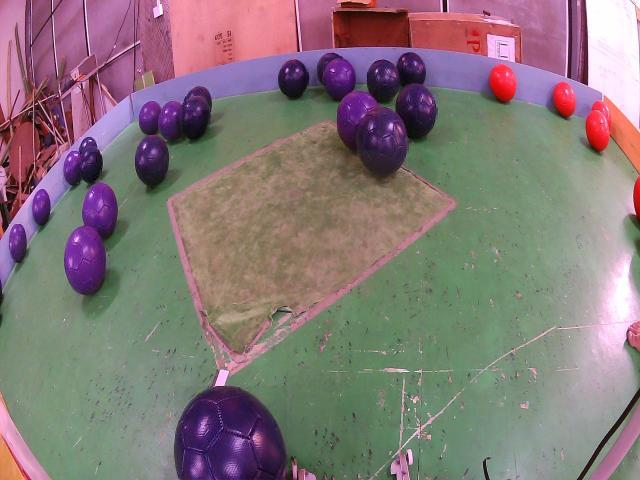jambhalya: (65, 225, 107, 295), (337, 90, 378, 150), (82, 182, 118, 238), (324, 58, 356, 101), (158, 101, 182, 141), (139, 100, 161, 135), (33, 188, 51, 225), (9, 225, 26, 261), (64, 152, 79, 184)
kaalyya: (175, 386, 287, 479), (357, 108, 408, 177), (396, 84, 437, 138), (135, 135, 169, 187), (367, 60, 400, 103), (179, 97, 209, 139), (278, 60, 308, 98), (397, 53, 427, 87), (81, 147, 101, 183), (317, 54, 341, 83), (187, 86, 212, 110), (80, 137, 98, 152)
